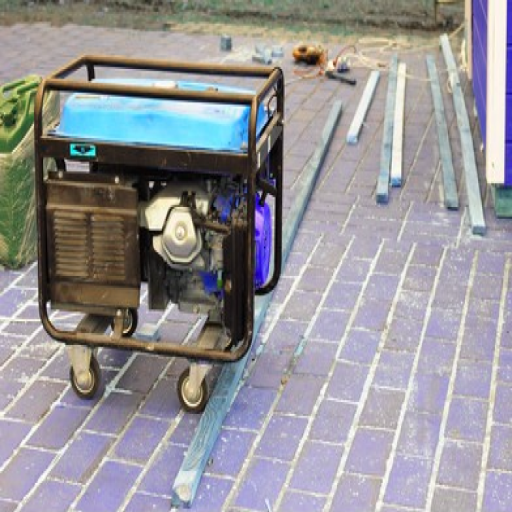portable_generator: (34, 54, 286, 364)
